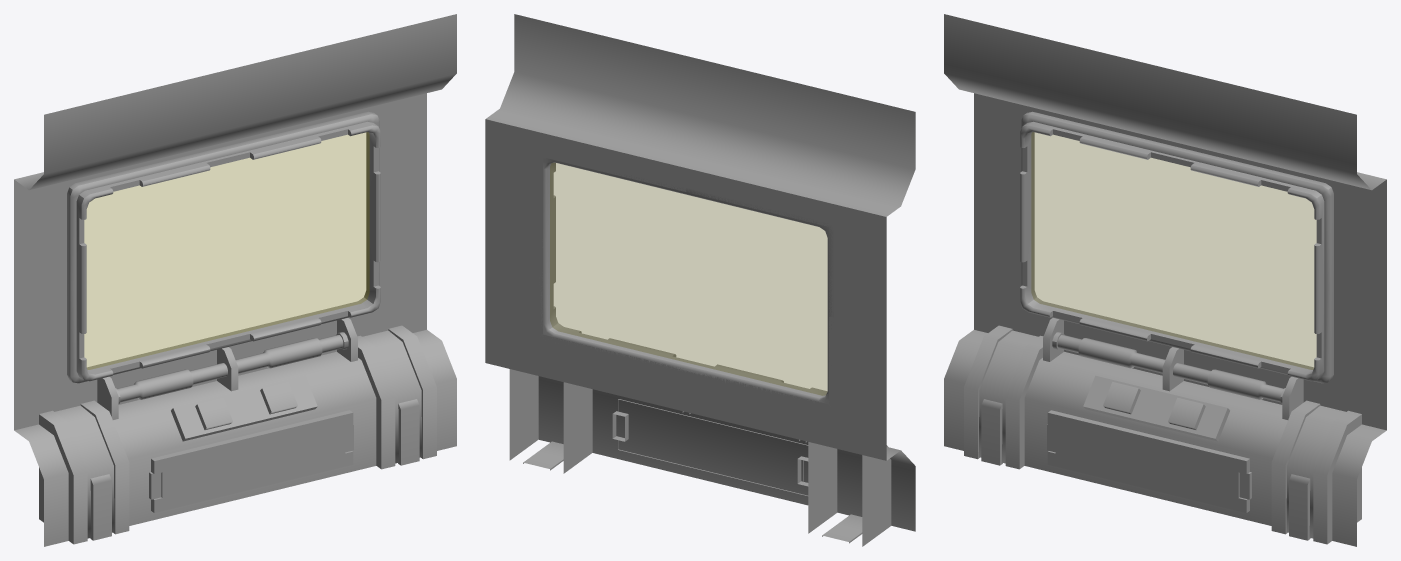
The model's file is SM_Wall_03.fbx.
3 views of the same model, side by side, from view 1: azimuth 30°, elevation 25°; view 2: azimuth 150°, elevation 25°; view 3: azimuth 330°, elevation 25° (orthographic). The views are drawn at different scales.
Parts seen in each view (by area): view 1: polySurface4132; view 2: polySurface4132; view 3: polySurface4132.
Boxes of the visible parts, <box> form: polySurface4132: <box>14,14,456,546</box>; polySurface4132: <box>485,14,915,546</box>; polySurface4132: <box>944,14,1386,546</box>.
Size of the model in its own units: 400 by 400 by 60.04.
